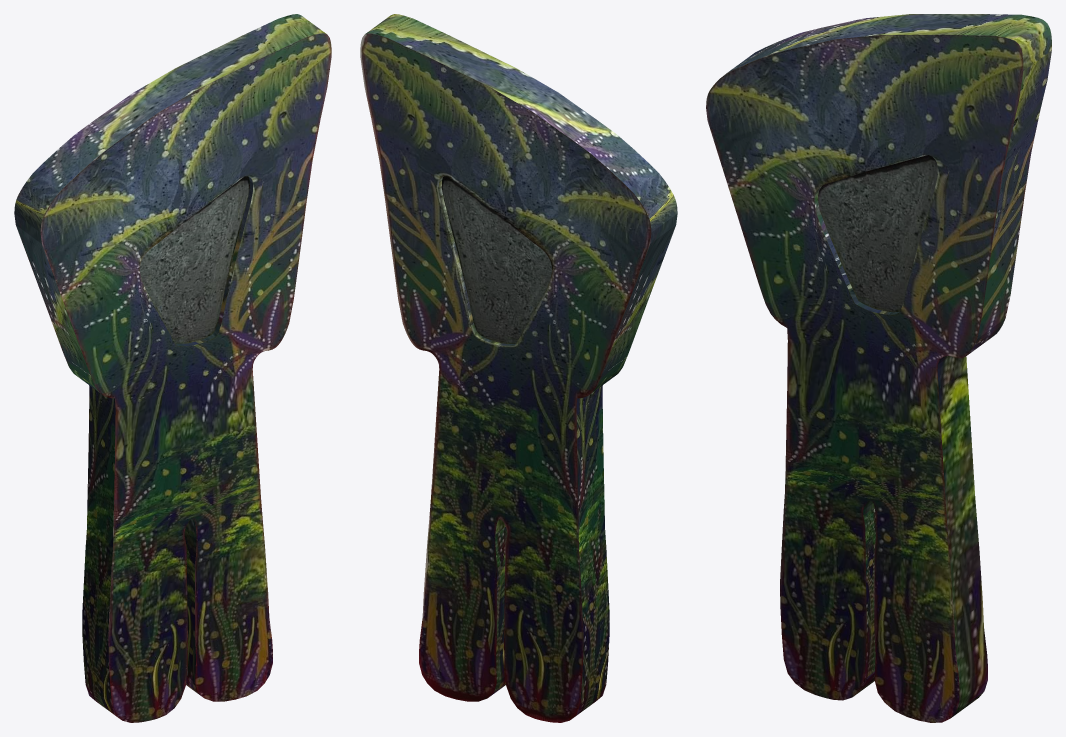
File: modelo.glb
3 renders of one model, left to right at view 1: azimuth 30°, elevation 25°; view 2: azimuth 150°, elevation 25°; view 3: azimuth 330°, elevation 25°, orthographic. The views are drawn at different scales.
Visible parts, largest first — view 1: BSurfaceMesh.005; view 2: BSurfaceMesh.005; view 3: BSurfaceMesh.005.
Part boxes in pixels (x1=…): BSurfaceMesh.005: x1=14, y1=14, x2=331, y2=722; BSurfaceMesh.005: x1=360, y1=14, x2=677, y2=722; BSurfaceMesh.005: x1=706, y1=14, x2=1051, y2=722.
Size of the model in its own units: 2.18 by 4.63 by 0.34.
1 material, 1 textured.
